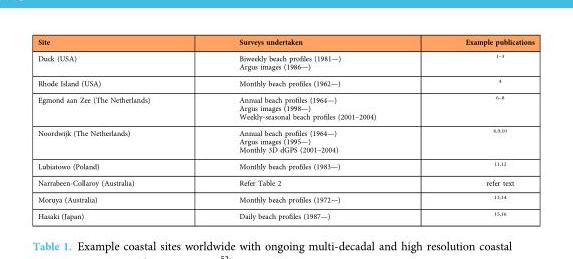table: (37, 37, 533, 219)
table column: (193, 37, 420, 219), (37, 37, 193, 219), (420, 37, 533, 219)
table column header: (37, 37, 533, 49)
table row: (37, 90, 533, 123), (37, 123, 533, 156), (37, 49, 533, 73), (37, 156, 533, 174), (37, 73, 533, 90), (37, 174, 533, 190), (37, 190, 533, 206), (37, 206, 533, 219), (37, 37, 533, 49)
